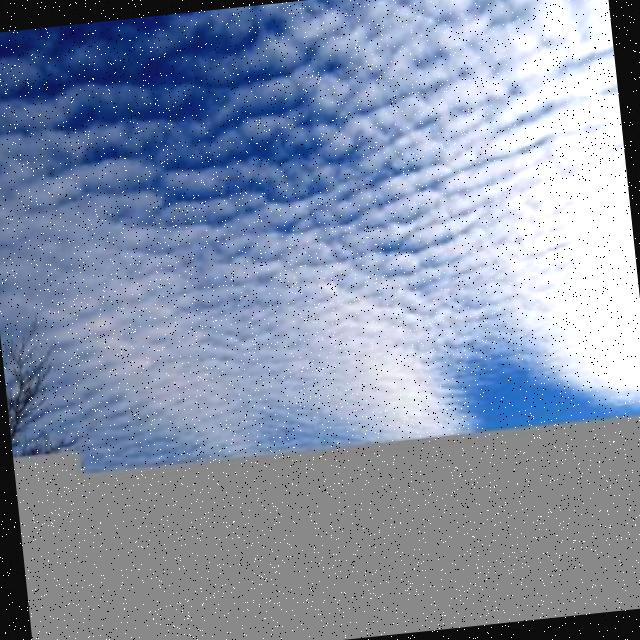Ac: (1, 1, 640, 395)
